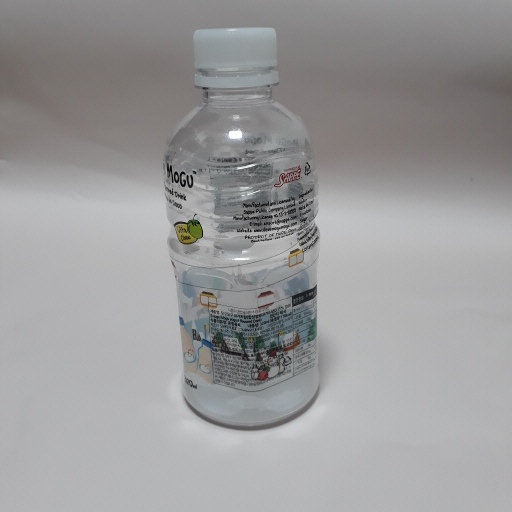Plastic_0: (161, 24, 326, 436)
